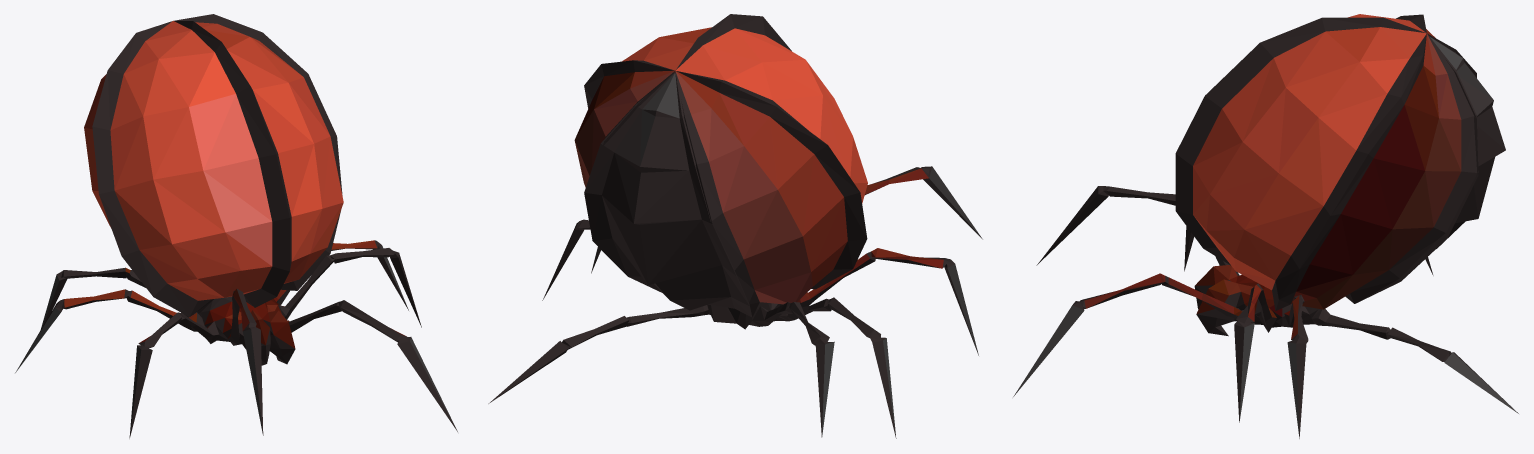
Rendered from matomenos.glb.
The picture shows the model from 3 angles, left to right: view 1: azimuth 30°, elevation 25°; view 2: azimuth 150°, elevation 25°; view 3: azimuth 270°, elevation 25°; orthographic projection. The views are drawn at different scales.
Parts seen in each view (by area): view 1: NPC_Nylocas_Matomenos__(level-68)_2022-10-20_15-33-34; view 2: NPC_Nylocas_Matomenos__(level-68)_2022-10-20_15-33-34; view 3: NPC_Nylocas_Matomenos__(level-68)_2022-10-20_15-33-34.
Part boxes in pixels (x1,y1,x2,y2): NPC_Nylocas_Matomenos__(level-68)_2022-10-20_15-33-34: (15, 14, 457, 438); NPC_Nylocas_Matomenos__(level-68)_2022-10-20_15-33-34: (488, 14, 982, 438); NPC_Nylocas_Matomenos__(level-68)_2022-10-20_15-33-34: (1013, 14, 1518, 438).
Bounding box in the file's own units: 256 × 216 × 295.
